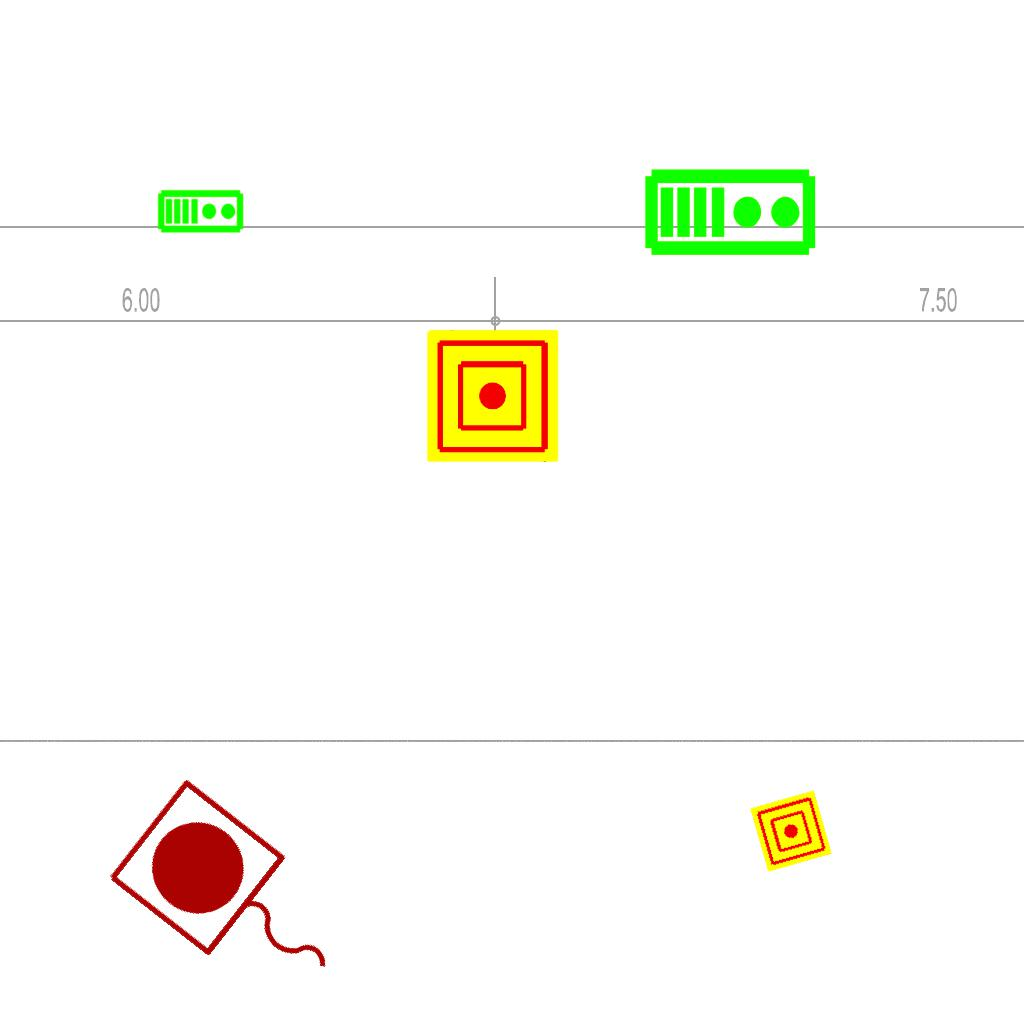Gegensprechanlage_mit_Video: (643, 163, 819, 258), (157, 187, 245, 234)
NAM-Nichtautomatischer_Melder: (427, 330, 559, 462), (750, 790, 832, 872)
Zugtaster: (95, 768, 377, 1024)
